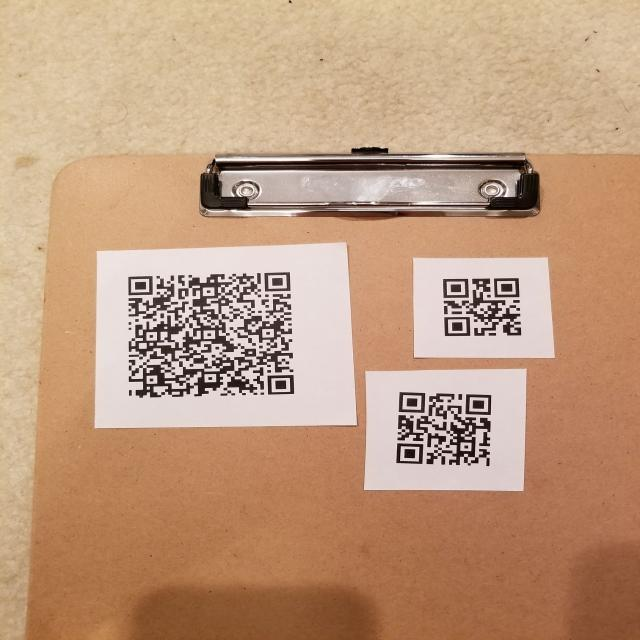qr-code: (114, 249, 318, 417), (370, 380, 508, 482), (430, 260, 542, 349)
